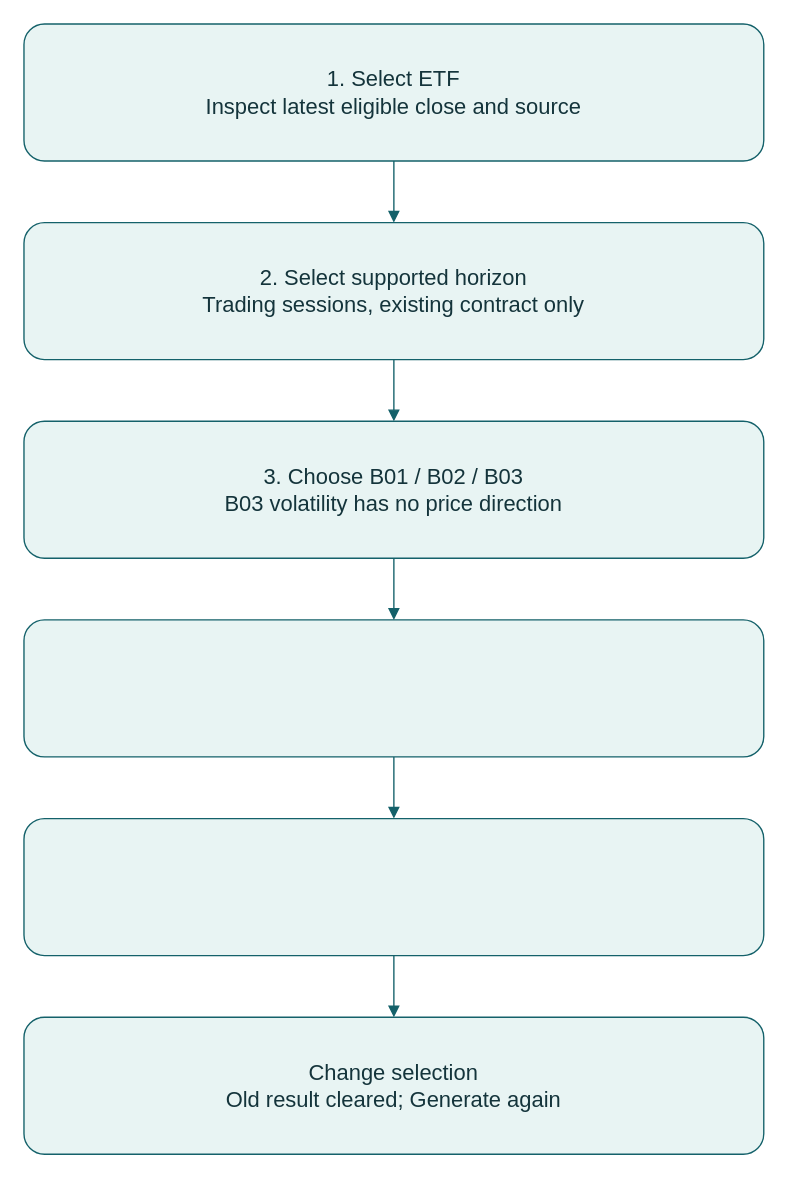
The diagram is 788 pixels wide and 1178 high, and some of its shapes have lost their labels. Here are the shapes that lost their labels. From the top down, the box of each, then its label:
(23, 619, 764, 757): 4. Generate Forecast Visible loading, result or meaningful error
(23, 817, 764, 956): 5. Review origin and target Endpoint and change; no invented intermediate path
